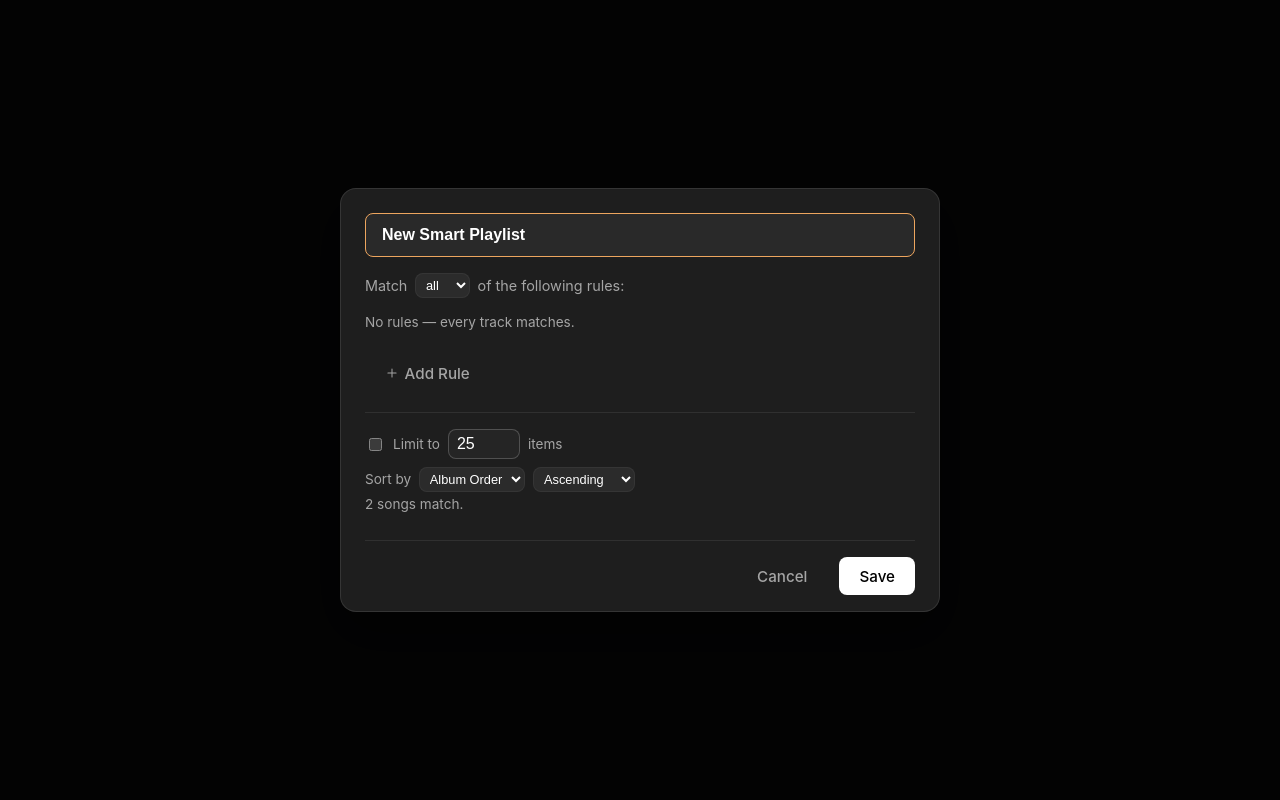
Test: SmartPlaylistModal › shows a live match count that updates as rules change
This screenshot has width=1280, height=800.
Expected: the text "2 songs match." is shown, [365,496,463,512]
Click the button "Add Rule" at (427, 373), box [365,354,490,392]
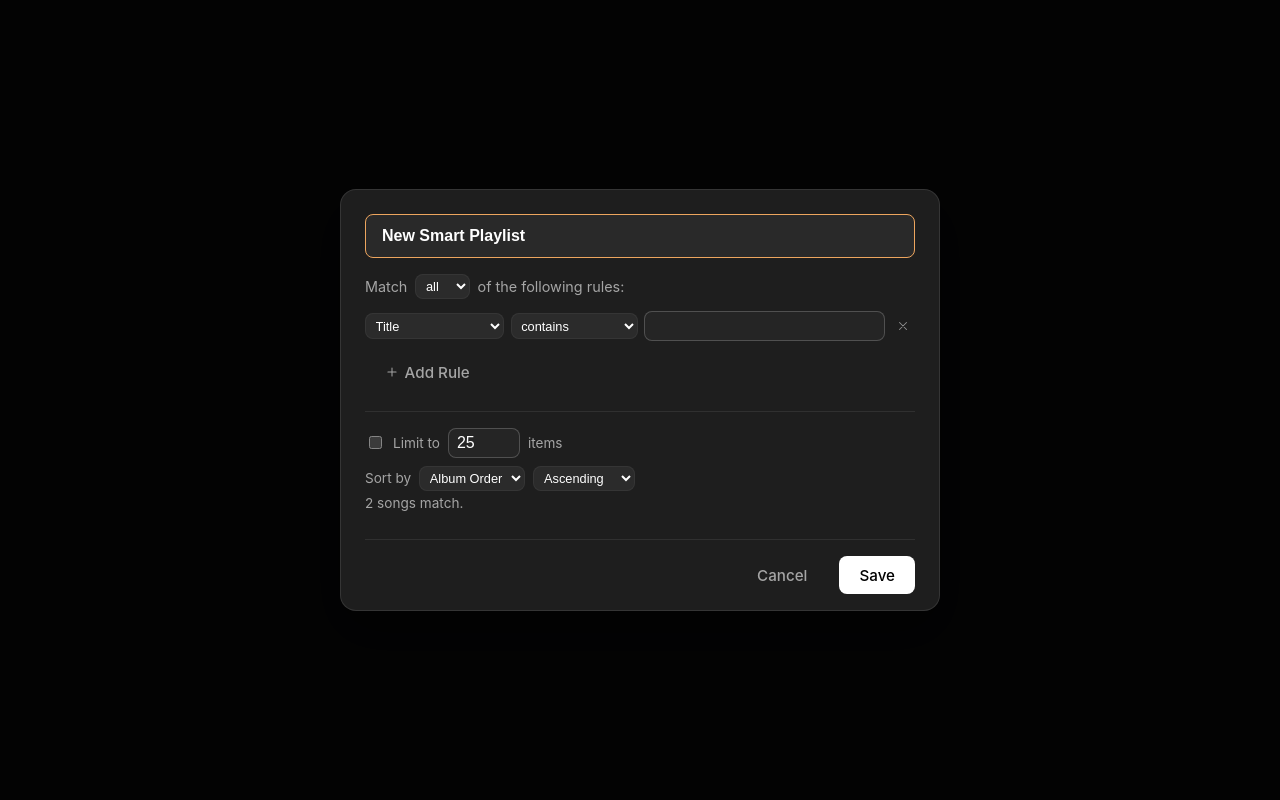
Expected: the text "2 songs match." is shown, [365,495,463,511]
Note: Switch the field to Genre and type a value that only one track has.
Select "Genre" in the 2nd dropdown showing "Title" at (435, 326), box [365,313,504,339]
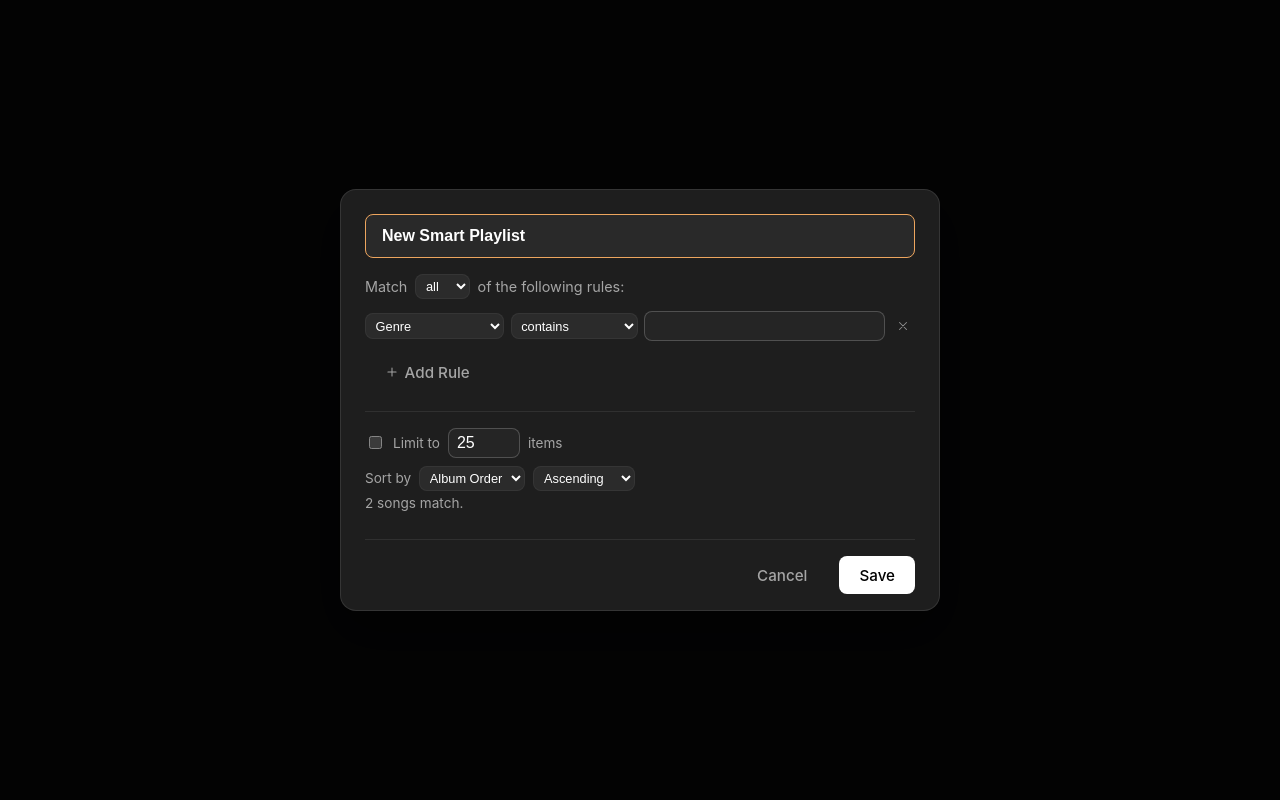
Type "Rock" into the field with class "smart-rule-value" at (764, 326), box [644,311,885,341]
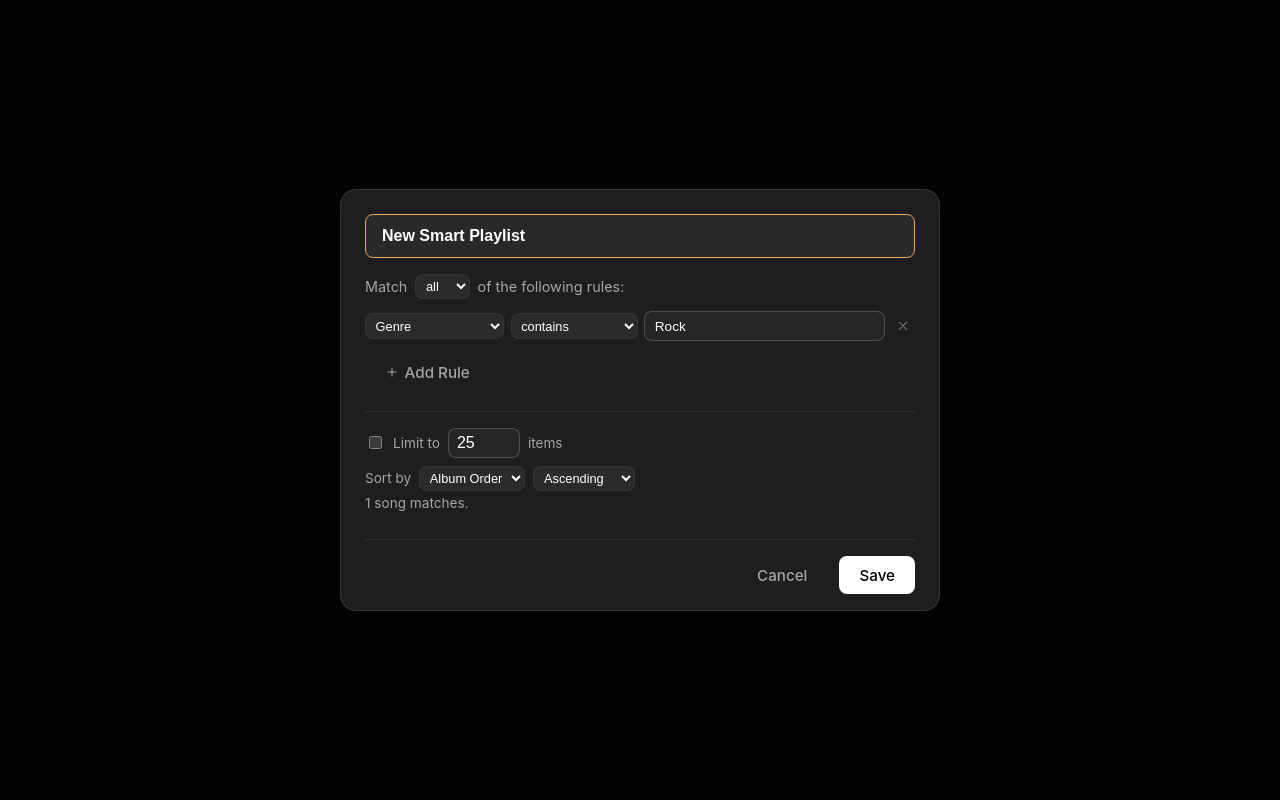
Result: the text "1 song matches." is shown at [365,495,468,511]
